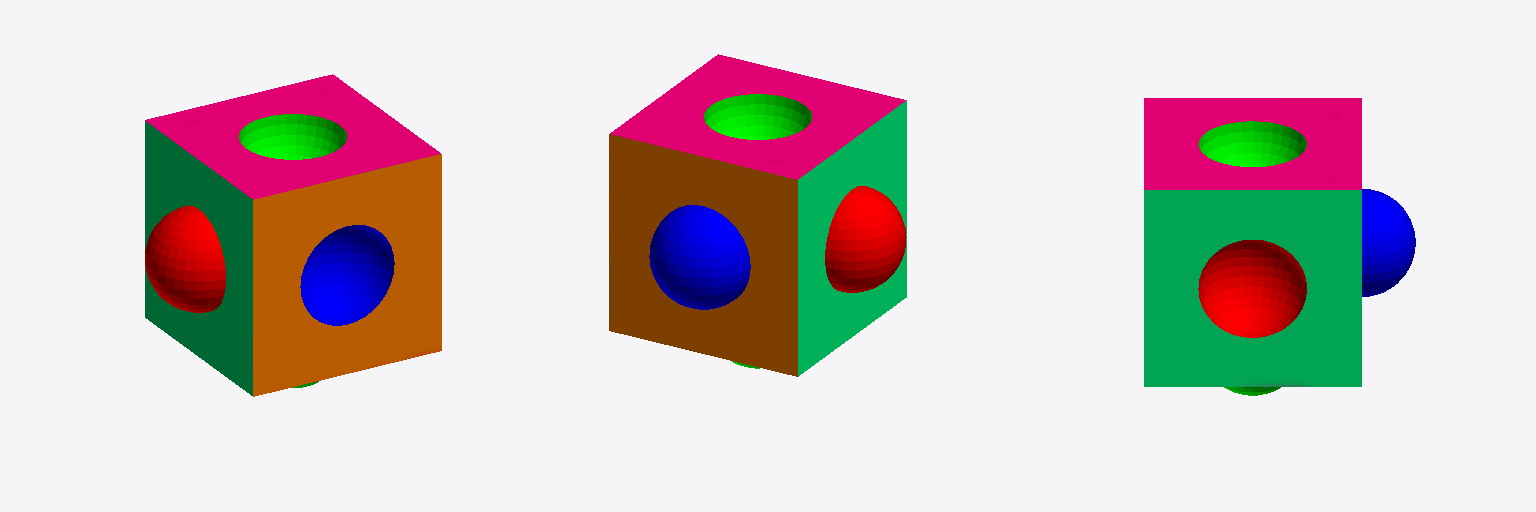
3 views of the same model, side by side, from view 1: azimuth 30°, elevation 25°; view 2: azimuth 150°, elevation 25°; view 3: azimuth 270°, elevation 25° (orthographic).
Parts seen in each view (by area): view 1: Cube; view 2: Cube; view 3: Cube.
Part boxes in pixels (bbox=[...]): Cube: bbox=[145, 74, 441, 396]; Cube: bbox=[609, 54, 906, 376]; Cube: bbox=[1144, 98, 1415, 395].
Bounding box in the file's own units: 2.5 × 2.5 × 2.5.
Materials: 1 (1 with a texture image).